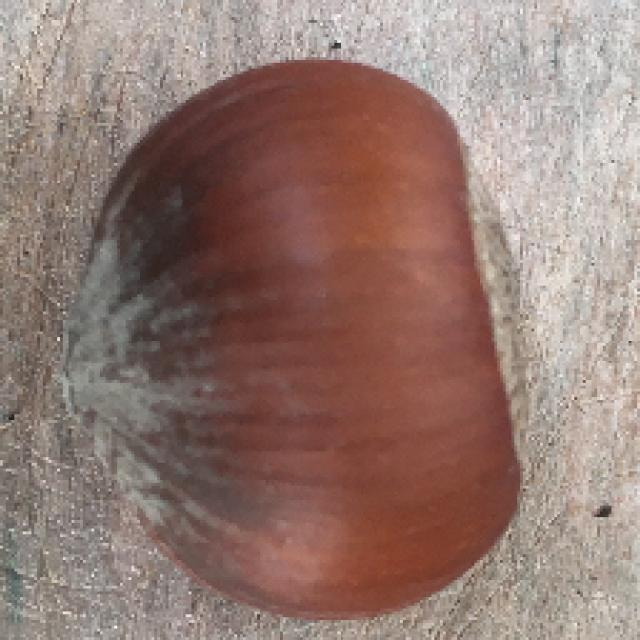qualityHazelnut: (70, 53, 544, 617)
